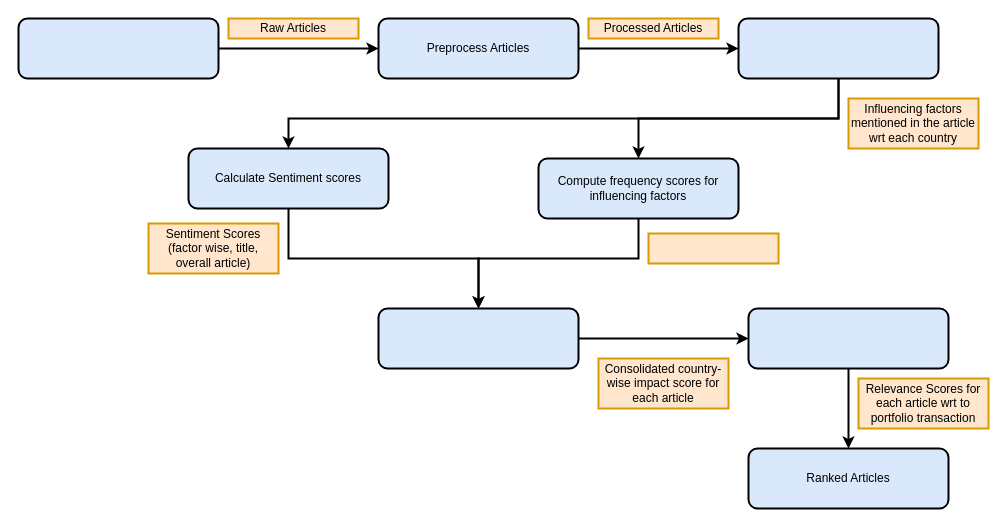
This 1006x526 diagram has some shape labels left out. Here are the shapes that lost their labels. From the top down, the box of each, then its label:
(17, 17, 219, 79): Retrieve articles using News APIs
(737, 17, 939, 79): Determine context country
(647, 232, 779, 264): Factor wise frequency scores
(377, 307, 579, 369): Compute impact score for each country in an article
(747, 307, 949, 369): Compute relevance score for each article for a transaction
